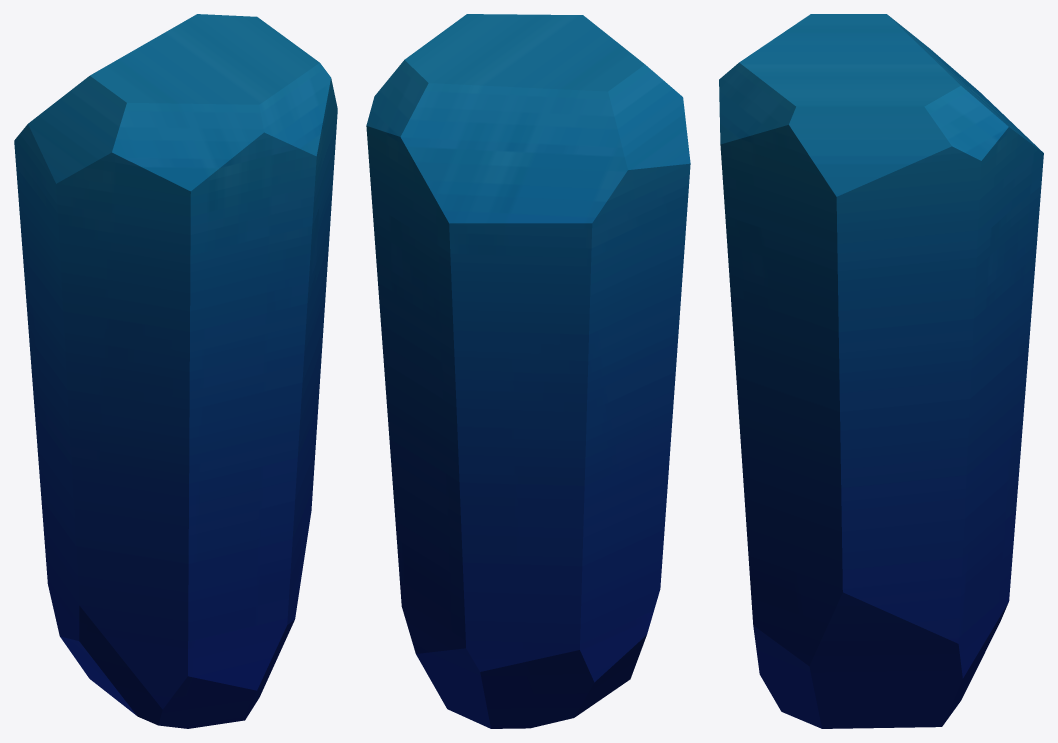
The model's file is rocaesmeralda_04.fbx.
The picture shows the model from 3 angles, left to right: view 1: azimuth 30°, elevation 25°; view 2: azimuth 150°, elevation 25°; view 3: azimuth 270°, elevation 25°; orthographic projection. The views are drawn at different scales.
Visible parts, largest first — view 1: cueva08; view 2: cueva08; view 3: cueva08.
Part boxes in pixels (x1,y1,x2,y2): cueva08: [14, 14, 337, 728]; cueva08: [366, 14, 690, 728]; cueva08: [719, 14, 1043, 728].
Size of the model in its own units: 356 by 763 by 348.
Materials: 1 (1 with a texture image).
